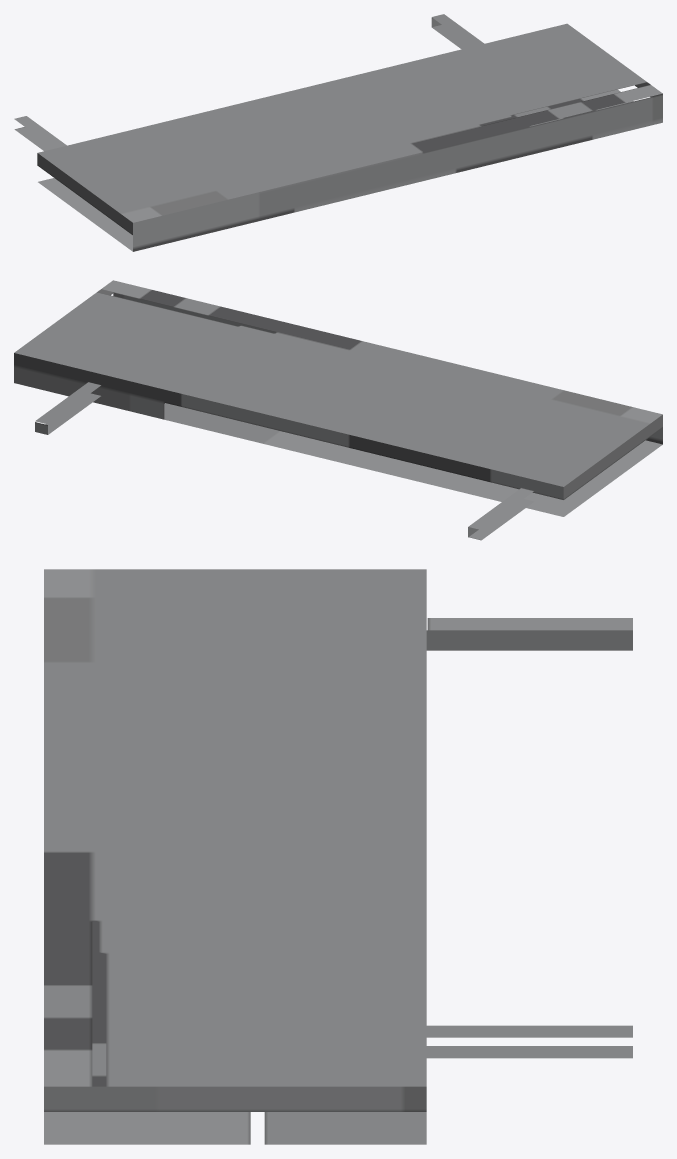
3 renders of one model, top to bottom at view 1: azimuth 30°, elevation 25°; view 2: azimuth 150°, elevation 25°; view 3: azimuth 270°, elevation 25°, orthographic. The views are drawn at different scales.
Size of the model in its own units: 4.01 by 0.2103 by 1.93.
